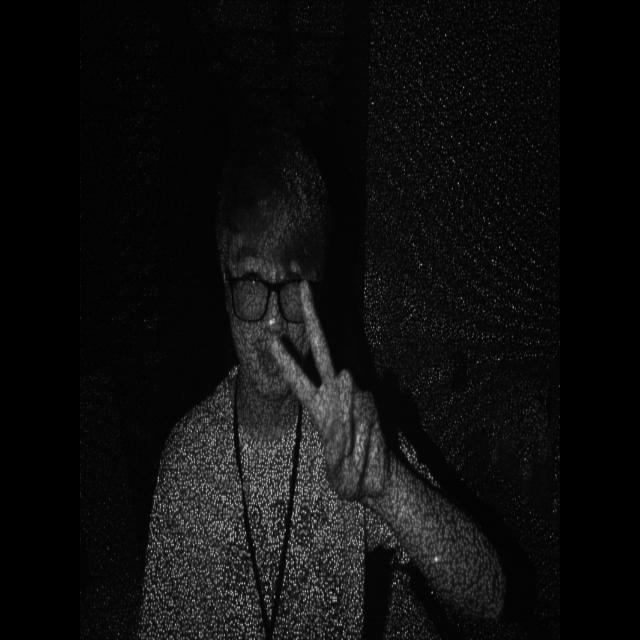V: (257, 260, 393, 508)
